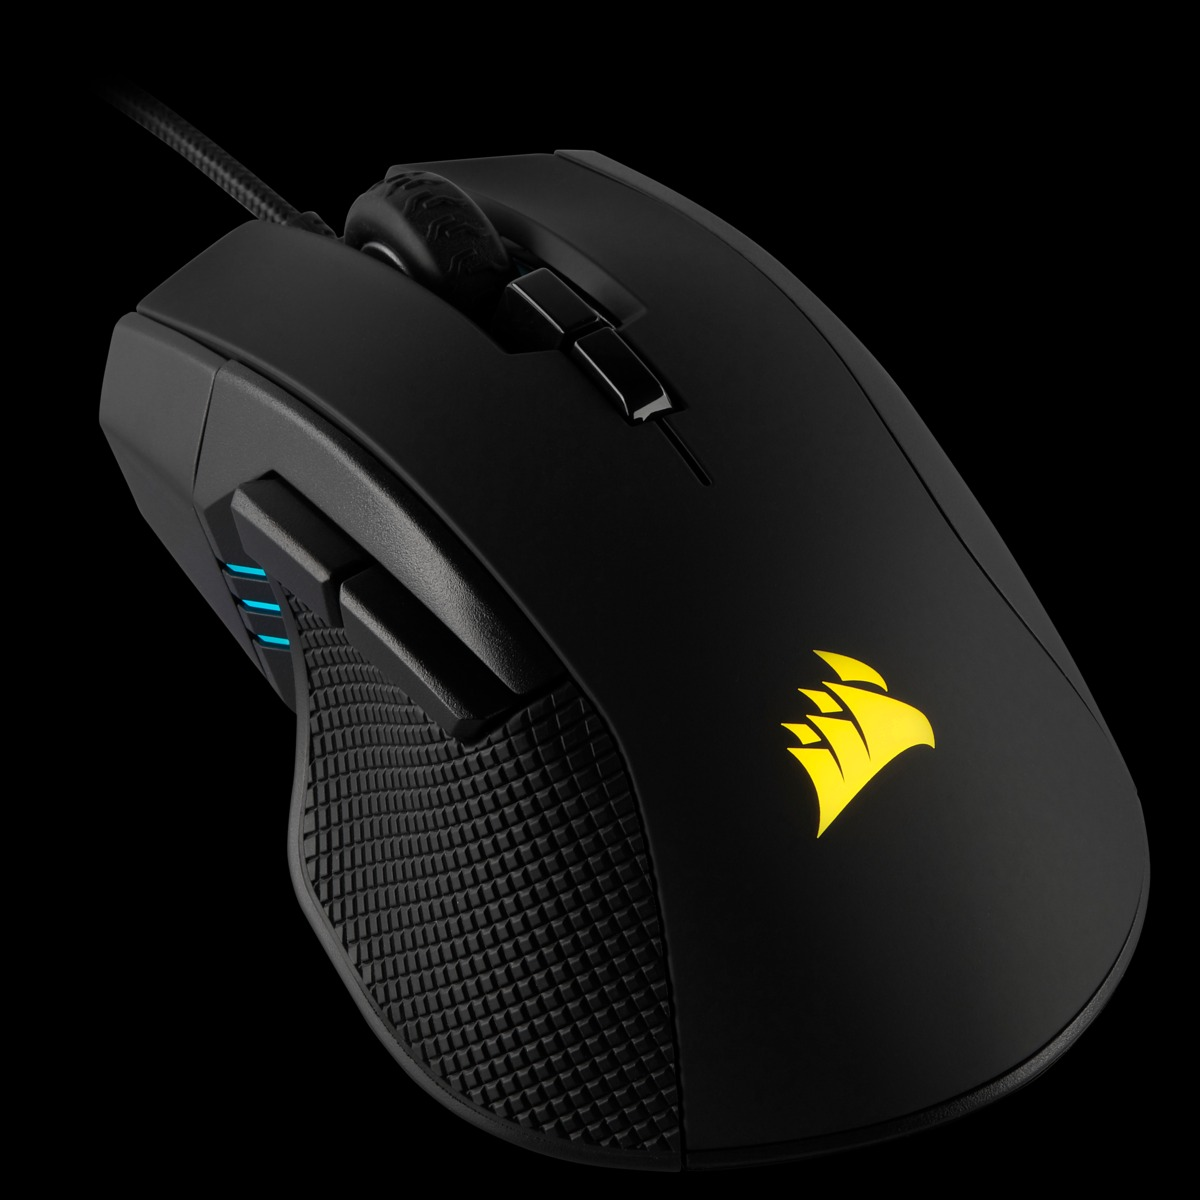mouse: (122, 124, 1177, 1200)
